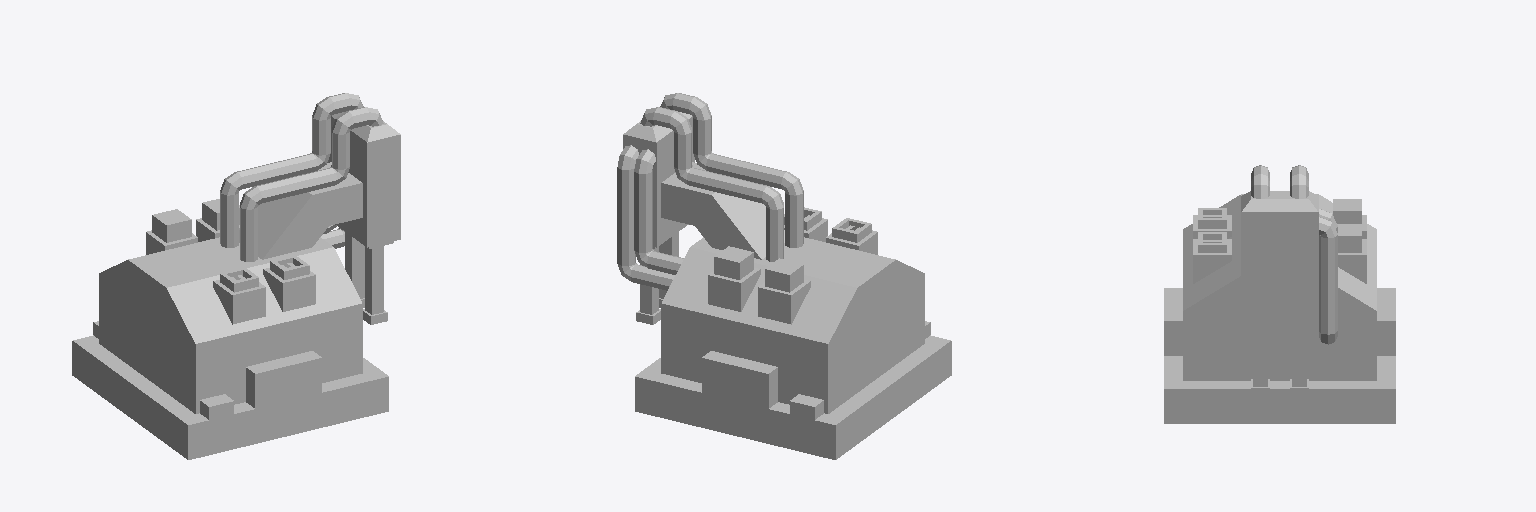
The model's file is steamhammer.obj.
The picture shows the model from 3 angles: view 1: azimuth 30°, elevation 25°; view 2: azimuth 150°, elevation 25°; view 3: azimuth 270°, elevation 25°; orthographic projection.
Visible parts, largest first — view 1: Main, HammerLeft, Piston2, HammerRight_HammerRicht; view 2: Main, Piston1, Piston2, HammerRight_HammerRicht; view 3: Main, HammerRight_HammerRicht, HammerLeft, Piston2, Piston1.
Boxes of the visible parts, x1,y1,x2,y2 form: Main: [72, 93, 400, 459]; HammerLeft: [363, 246, 387, 324]; Piston2: [152, 209, 191, 242]; HammerRight_HammerRicht: [345, 232, 364, 307]; Main: [617, 93, 951, 459]; Piston1: [714, 246, 753, 279]; Piston2: [765, 258, 803, 292]; HammerRight_HammerRicht: [636, 247, 660, 324]; Main: [1164, 165, 1395, 423]; HammerRight_HammerRicht: [1290, 320, 1308, 395]; HammerLeft: [1251, 320, 1269, 395]; Piston2: [1333, 199, 1361, 223]; Piston1: [1337, 224, 1361, 252].
Size of the model in its own units: 3.75 by 3.75 by 3.